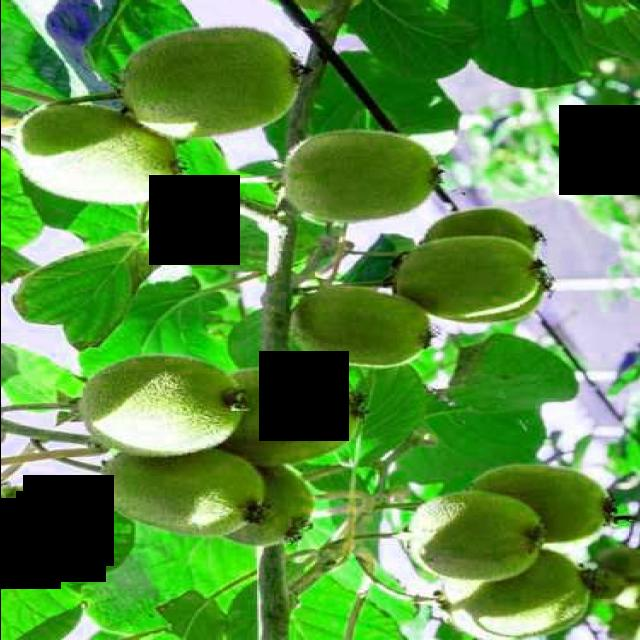kiwi: (117, 22, 305, 146), (7, 96, 189, 210), (66, 353, 245, 463), (93, 442, 269, 540), (281, 124, 443, 226), (218, 364, 366, 470), (400, 488, 554, 588), (390, 229, 552, 320), (279, 283, 433, 377), (469, 460, 616, 549), (437, 553, 585, 640), (220, 459, 322, 553), (406, 198, 548, 252), (450, 281, 559, 329), (587, 542, 640, 608)
